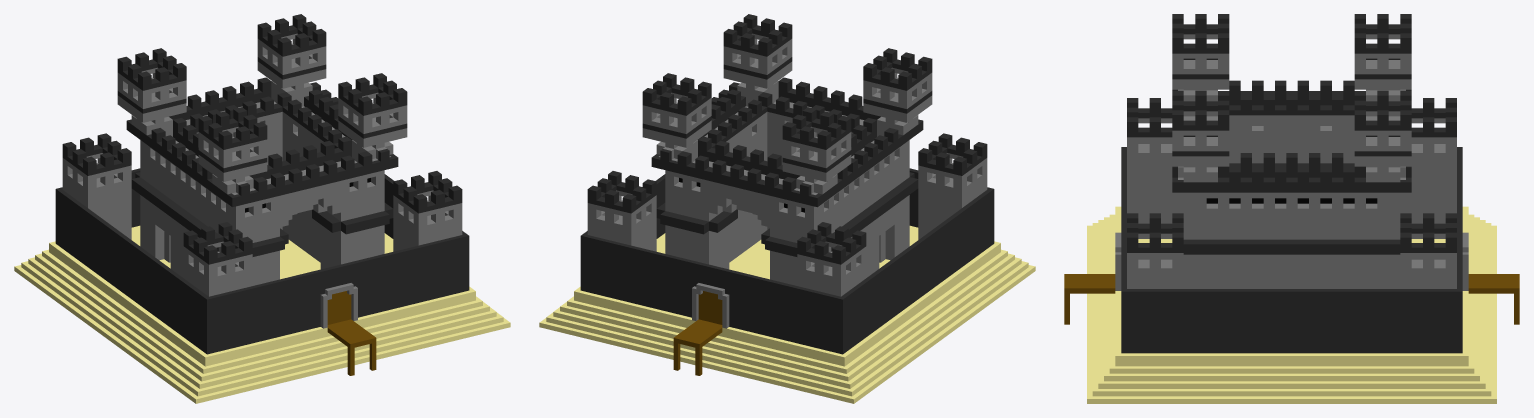
Rendered from Player Fortress.obj.
3 views of the same model, side by side, from view 1: azimuth 30°, elevation 25°; view 2: azimuth 150°, elevation 25°; view 3: azimuth 270°, elevation 25° (orthographic). The views are drawn at different scales.
Bounding box in the file's own units: 7.2 × 4.9 × 8.
1 material, 1 textured.
